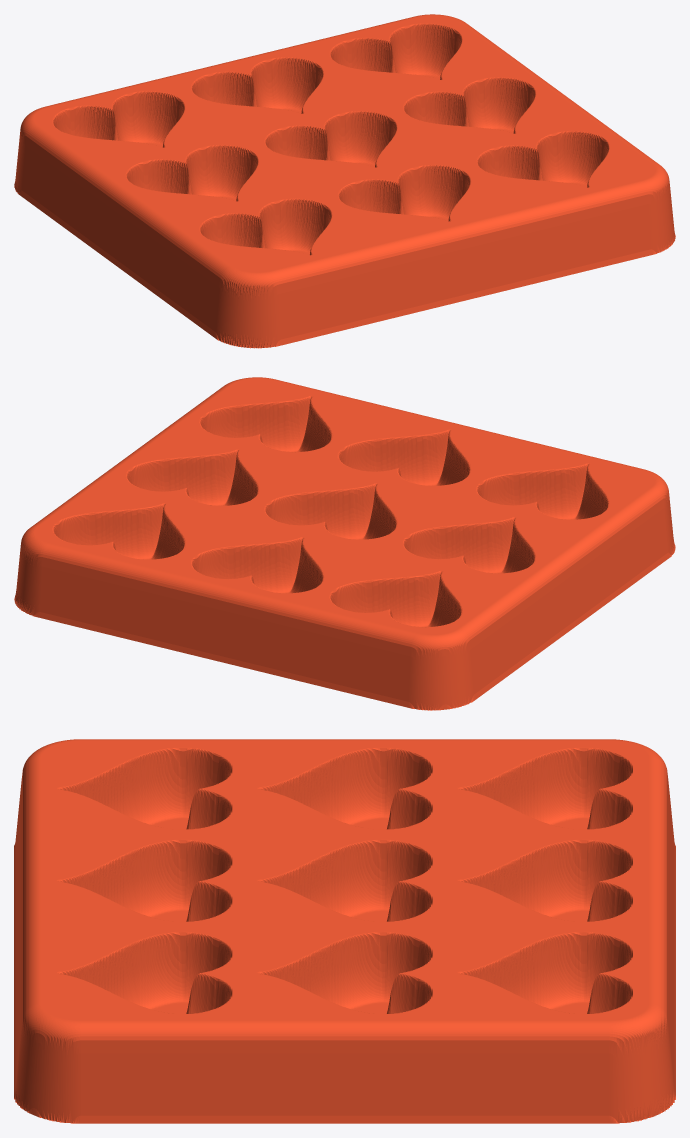
The model's file is mold.glb.
The picture shows the model from 3 angles, top to bottom: view 1: azimuth 30°, elevation 25°; view 2: azimuth 150°, elevation 25°; view 3: azimuth 270°, elevation 25°; orthographic projection. The views are drawn at different scales.
Parts seen in each view (by area): view 1: geometry_0; view 2: geometry_0; view 3: geometry_0.
Boxes of the visible parts, x1,y1,x2,y2 form: geometry_0: (14, 14, 675, 348); geometry_0: (14, 377, 675, 710); geometry_0: (14, 739, 675, 1123).
Bounding box in the file's own units: 0.0964 × 0.0136 × 0.0892.
